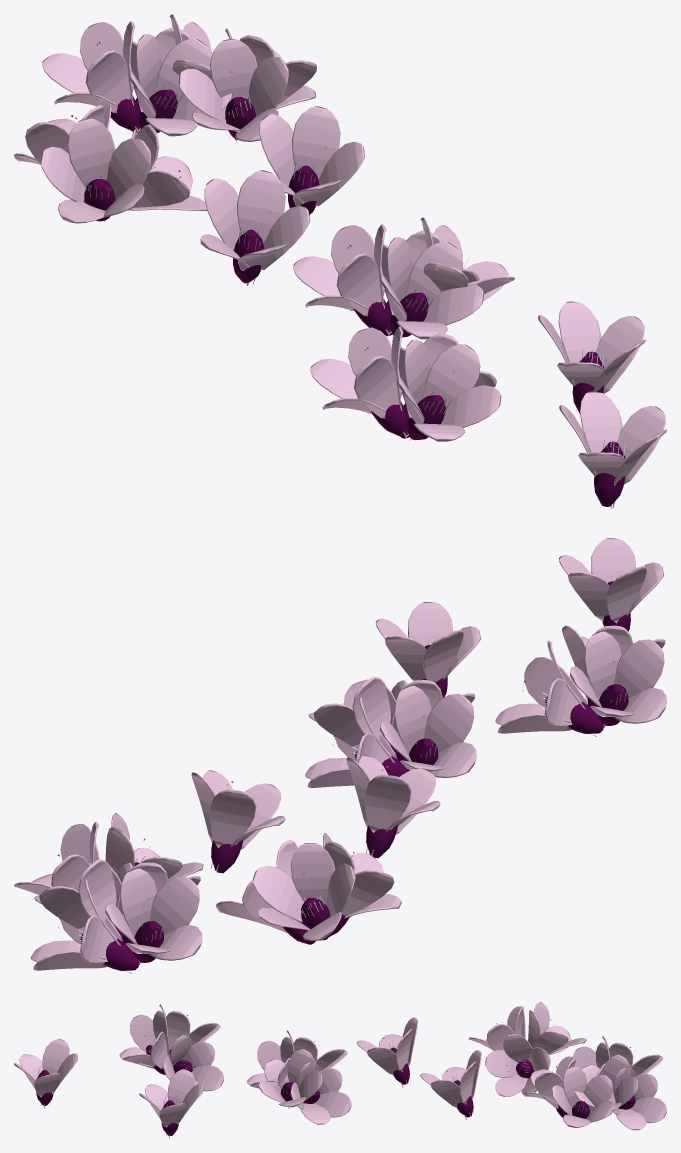
Rendered from no pollen cherry.fbx.
3 renders of one model, top to bottom at view 1: azimuth 30°, elevation 25°; view 2: azimuth 150°, elevation 25°; view 3: azimuth 270°, elevation 25°, orthographic. The views are drawn at different scales.
Parts seen in each view (by area): view 1: pSphere54 (×2), pSphere55 (×2), one_flower:pSphere33, pSphere59, pSphere33, pSphere48, pSphere60, pSphere57, pSphere62, pSphere64, pSphere53, pSphere66 (+6 smaller); view 2: pSphere55 (×2), pSphere57, pSphere64, pSphere62, pSphere54 (×2), pSphere48, pSphere33, one_flower:pSphere33, pSphere53, pSphere58, pSphere65, pSphere63 (+6 smaller); view 3: pSphere54 (×2), pSphere55 (×2), pSphere56, pSphere63, pSphere48, pSphere53, pSphere61, pSphere59, pSphere58, pSphere65, pSphere33, one_flower:pSphere33 (+6 smaller).
Part boxes in pixels (x1,y1,x2,y2): pSphere54 (×2): [40, 28, 316, 223]; pSphere55 (×2): [14, 39, 288, 164]; one_flower:pSphere33: [200, 170, 310, 285]; pSphere59: [397, 339, 501, 441]; pSphere33: [259, 106, 364, 215]; pSphere48: [559, 391, 666, 508]; pSphere60: [380, 237, 483, 339]; pSphere57: [310, 327, 407, 436]; pSphere62: [293, 224, 390, 334]; pSphere64: [42, 21, 139, 131]; pSphere53: [538, 301, 645, 413]; pSphere66: [129, 33, 232, 136]; pSphere55 (×2): [105, 813, 355, 940]; pSphere57: [570, 631, 666, 727]; pSphere64: [105, 868, 202, 964]; pSphere62: [379, 686, 476, 777]; pSphere54 (×2): [14, 821, 401, 936]; pSphere48: [559, 538, 664, 631]; pSphere33: [191, 770, 285, 873]; one_flower:pSphere33: [346, 755, 440, 858]; pSphere53: [375, 602, 480, 697]; pSphere58: [495, 640, 606, 736]; pSphere65: [30, 880, 141, 973]; pSphere63: [308, 677, 407, 759]; pSphere54 (×2): [468, 1006, 614, 1127]; pSphere55 (×2): [523, 1002, 586, 1117]; pSphere56: [485, 1033, 550, 1096]; pSphere63: [259, 1049, 322, 1108]; pSphere48: [14, 1039, 77, 1108]; pSphere53: [139, 1069, 203, 1138]; pSphere61: [290, 1062, 351, 1124]; pSphere59: [119, 1010, 169, 1074]; pSphere58: [163, 1035, 224, 1096]; pSphere65: [608, 1067, 666, 1130]; pSphere33: [420, 1050, 481, 1120]; one_flower:pSphere33: [356, 1017, 417, 1087].
Size of the model in its own units: 10.86 by 4.07 by 32.
